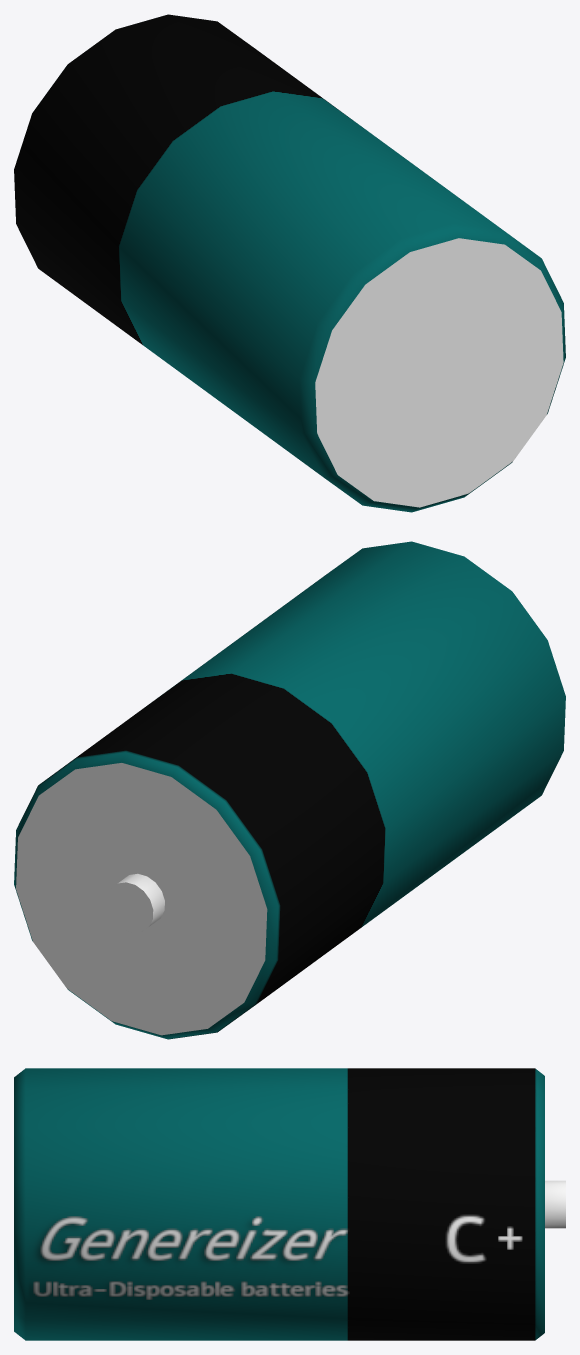
Rendered from C battery.glb.
3 views of the same model, one above another, from view 1: azimuth 30°, elevation 25°; view 2: azimuth 150°, elevation 25°; view 3: azimuth 270°, elevation 25° (orthographic). The views are drawn at different scales.
Parts seen in each view (by area): view 1: Cylinder; view 2: Cylinder; view 3: Cylinder.
Boxes of the visible parts, x1,y1,x2,y2 form: Cylinder: (14,14,565,512); Cylinder: (14,541,565,1039); Cylinder: (14,1068,565,1340).
Bounding box in the file's own units: 0.0258 × 0.0258 × 0.052.
1 material, 1 textured.
